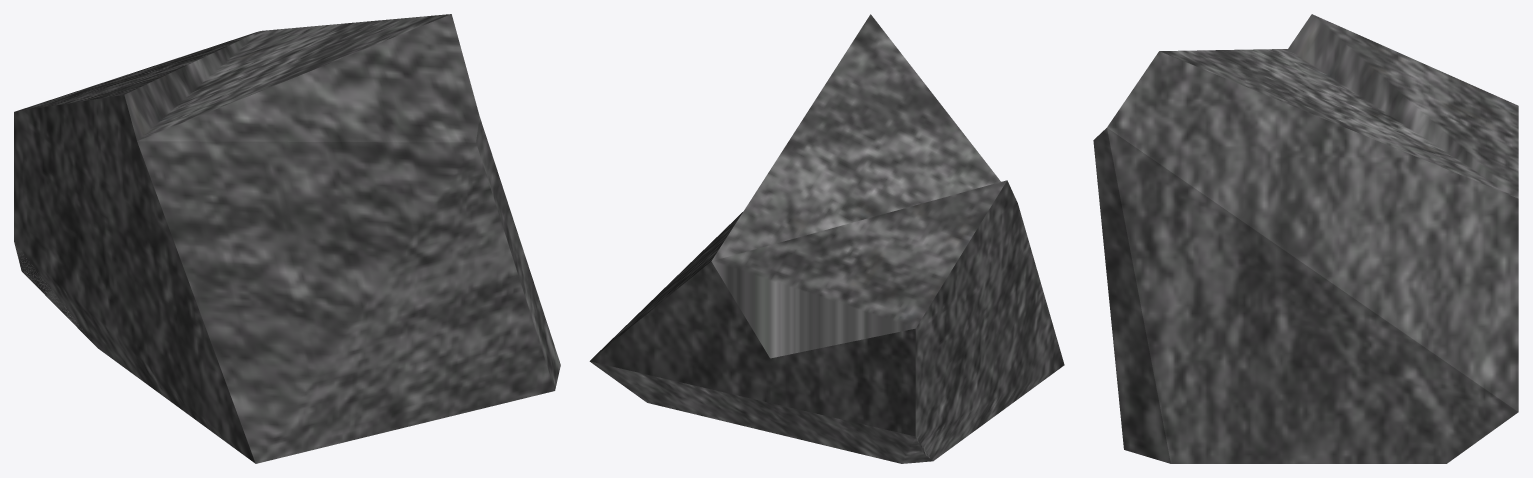
The model's file is Stone02.fbx.
The picture shows the model from 3 angles, left to right: view 1: azimuth 30°, elevation 25°; view 2: azimuth 150°, elevation 25°; view 3: azimuth 270°, elevation 25°; orthographic projection. The views are drawn at different scales.
Visible parts, largest first — view 1: Stone02; view 2: Stone02; view 3: Stone02.
Part boxes in pixels (x1,y1,x2,y2): Stone02: (14,14,560,463); Stone02: (589,14,1064,463); Stone02: (1093,14,1518,463).
Bounding box in the file's own units: 16.19 × 15.12 × 16.19.
